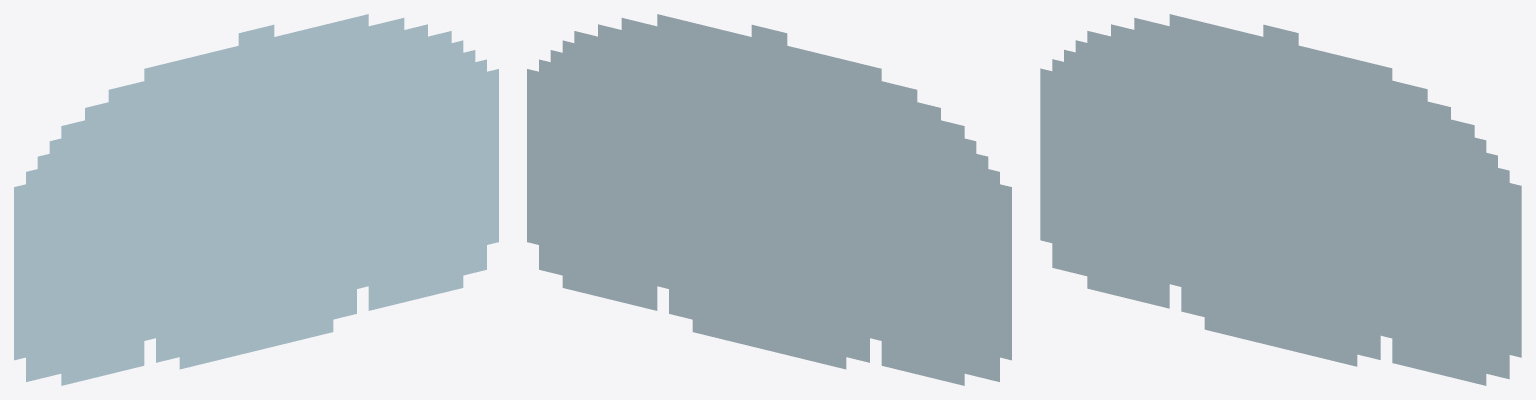
File: wp_water_99.obj
The picture shows the model from 3 angles, left to right: view 1: azimuth 30°, elevation 25°; view 2: azimuth 150°, elevation 25°; view 3: azimuth 330°, elevation 25°; orthographic projection.
Bounding box in the file's own units: 0.5708 × 0.362 × 0.
1 material, 1 textured.
